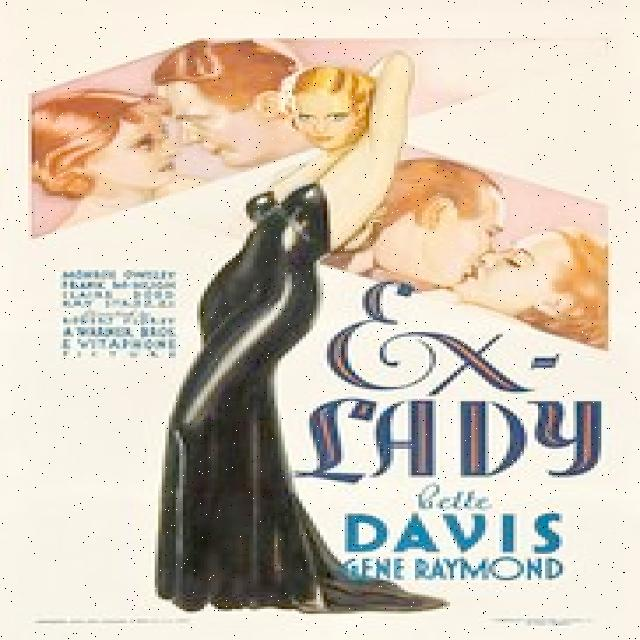movie-judul: (322, 275, 612, 599)
picture: (30, 37, 611, 615)
